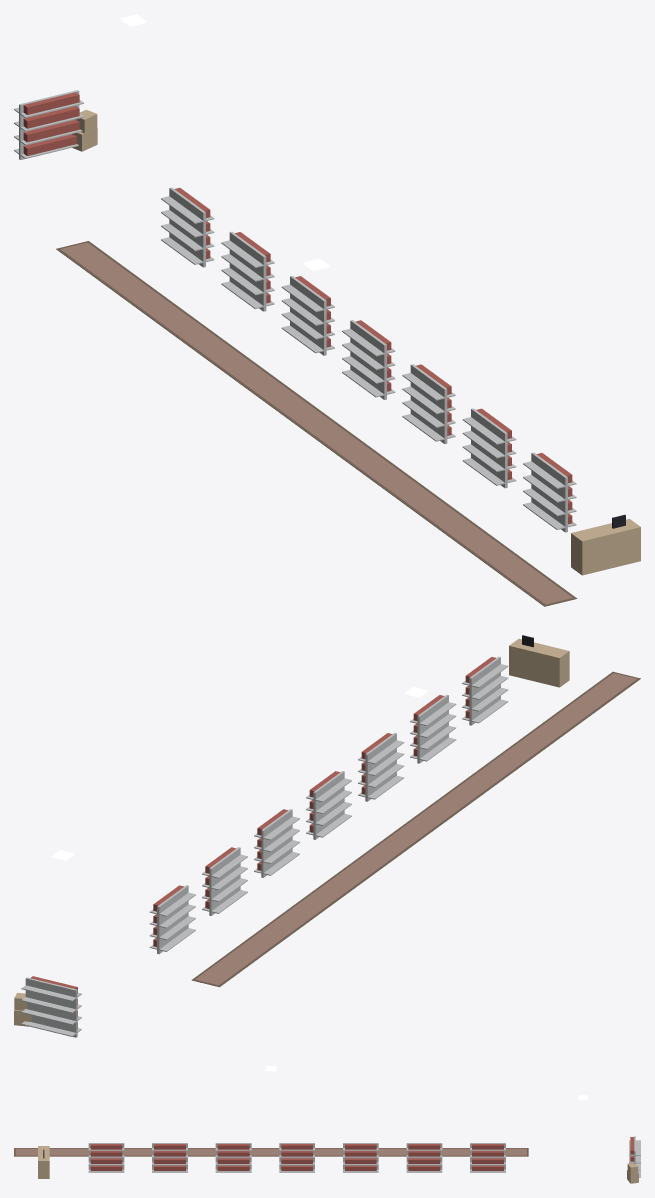
The model's file is fine-s0.glb.
3 renders of one model, top to bottom at view 1: azimuth 30°, elevation 25°; view 2: azimuth 150°, elevation 25°; view 3: azimuth 270°, elevation 25°, orthographic. The views are drawn at different scales.
Parts seen in each view (by area): view 1: soft-s0, shelving.000, shop-counter.000, shelf.001, shelf.004, shelf.000, shelf.006, shelf.003, shelf.002, shelf.005; view 2: soft-s0, shelving.000, shop-counter.000, shelf.006, shelf.003, shelf.004, shelf.005, shelf.000, shelf.001, shelf.002; view 3: soft-s0, shelf.001, shelf.004, shelf.006, shelf.000, shelf.002, shelf.003, shelf.005, shop-counter.000, shelving.000, cardboard-box.000.
Boxes of the visible parts, bbox=[...] form: soft-s0: bbox=[56, 241, 577, 606]; shelving.000: bbox=[14, 90, 83, 159]; shop-counter.000: bbox=[571, 514, 640, 575]; shelf.001: bbox=[221, 231, 274, 311]; shelf.004: bbox=[402, 364, 455, 443]; shelf.000: bbox=[161, 187, 214, 267]; shelf.006: bbox=[523, 452, 576, 532]; shelf.003: bbox=[342, 320, 395, 399]; shelf.002: bbox=[281, 276, 334, 355]; shelf.005: bbox=[462, 408, 516, 488]; soft-s0: bbox=[192, 671, 640, 987]; shelving.000: bbox=[21, 976, 81, 1037]; shop-counter.000: bbox=[509, 635, 569, 687]; shelf.006: bbox=[462, 656, 508, 725]; shelf.003: bbox=[306, 771, 351, 839]; shelf.004: bbox=[358, 732, 404, 801]; shelf.005: bbox=[410, 694, 456, 763]; shelf.000: bbox=[149, 885, 195, 954]; shelf.001: bbox=[202, 847, 247, 915]; shelf.002: bbox=[254, 809, 299, 877]; soft-s0: bbox=[14, 1148, 528, 1156]; shelf.001: bbox=[406, 1143, 442, 1172]; shelf.004: bbox=[215, 1143, 251, 1172]; shelf.006: bbox=[88, 1143, 124, 1172]; shelf.000: bbox=[470, 1143, 505, 1172]; shelf.002: bbox=[343, 1143, 378, 1172]; shelf.003: bbox=[279, 1143, 314, 1172]; shelf.005: bbox=[152, 1143, 187, 1172]; shop-counter.000: bbox=[38, 1146, 49, 1178]; shelving.000: bbox=[629, 1136, 640, 1177]; cardboard-box.000: bbox=[627, 1163, 638, 1183].
Size of the model in its own units: 4.23 by 4.68 by 31.55.
